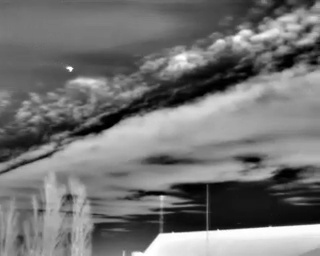BIRD: (64, 63, 75, 75)
